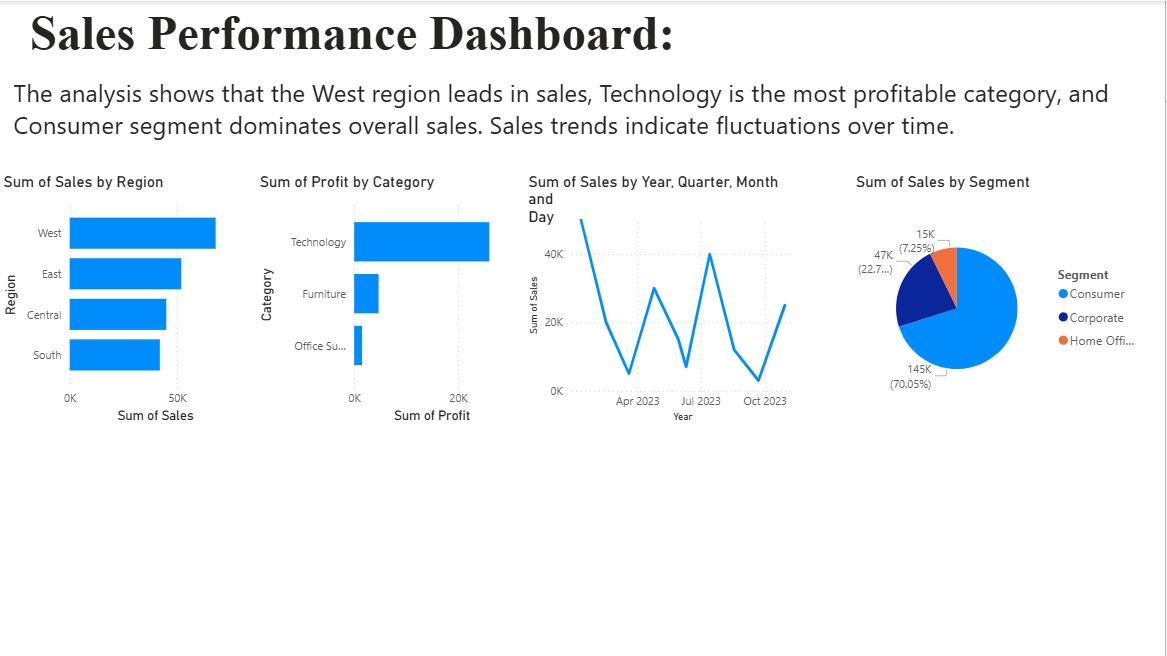

What the dashboard file says about the page in this screenshot:
{"tool":"powerbi","page":{"name":"Page 5","canvas":[1280,720],"ordinal":4},"visuals":[{"type":"clusteredBarChart","fields":{"Category":["Superstore_Sample_Task2.Region"],"Y":["Sum(Superstore_Sample_Task2.Sales)"]},"box":[0,188,281.3,279.9],"z":0},{"type":"clusteredBarChart","fields":{"Category":["Superstore_Sample_Task2.Category"],"Y":["Sum(Superstore_Sample_Task2.Profit)"]},"box":[281.3,188,295,279.9],"z":1000},{"type":"lineChart","fields":{"Y":["Sum(Superstore_Sample_Task2.Sales)"],"Category":["Superstore_Sample_Task2.Order Date.Variation.Date Hierarchy.Year","Superstore_Sample_Task2.Order Date.Variation.Date Hierarchy.Quarter","Superstore_Sample_Task2.Order Date.Variation.Date Hierarchy.Month","Superstore_Sample_Task2.Order Date.Variation.Date Hierarchy.Day"]},"box":[576.3,188,315.6,279.9],"z":2000},{"type":"pieChart","fields":{"Category":["Superstore_Sample_Task2.Segment"],"Y":["Sum(Superstore_Sample_Task2.Sales)"]},"box":[935.9,188,326.6,279.9],"z":3000},{"type":"textbox","box":[28.8,0,735.5,76.8],"z":5000},{"type":"textbox","box":[11,76.8,1251.5,98.8],"z":5001}]}

Visuals, with their boxes in screenshot pixels (x1, y1, x2, y2), scaled from the page's 1280x720 canvas onto the 1167x656 screenshot:
clusteredBarChart - Superstore_Sample_Task2.Region x Sum(Superstore_Sample_Task2.Sales): 0:171:256:426
clusteredBarChart - Superstore_Sample_Task2.Category x Sum(Superstore_Sample_Task2.Profit): 256:171:525:426
lineChart - Sum(Superstore_Sample_Task2.Sales) x Superstore_Sample_Task2.Order Date.Variation.Date Hierarchy.Year: 525:171:813:426
pieChart - Superstore_Sample_Task2.Segment x Sum(Superstore_Sample_Task2.Sales): 853:171:1151:426
textbox: 26:0:697:70
textbox: 10:70:1151:160
